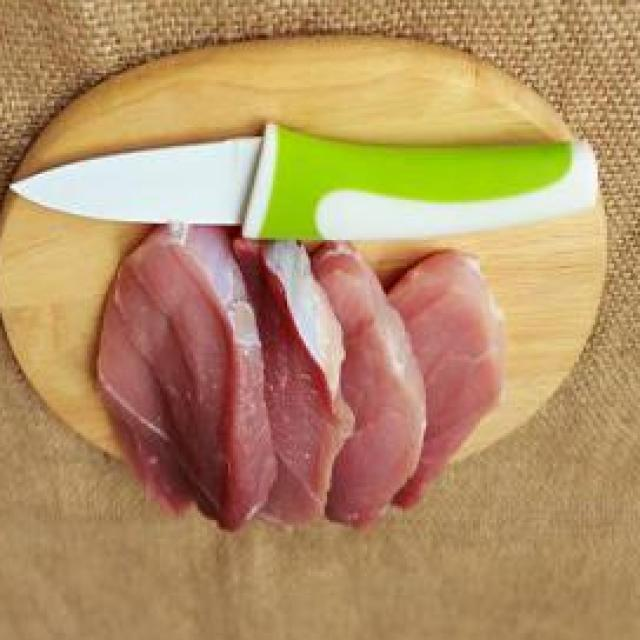knife: (7, 118, 595, 240)
